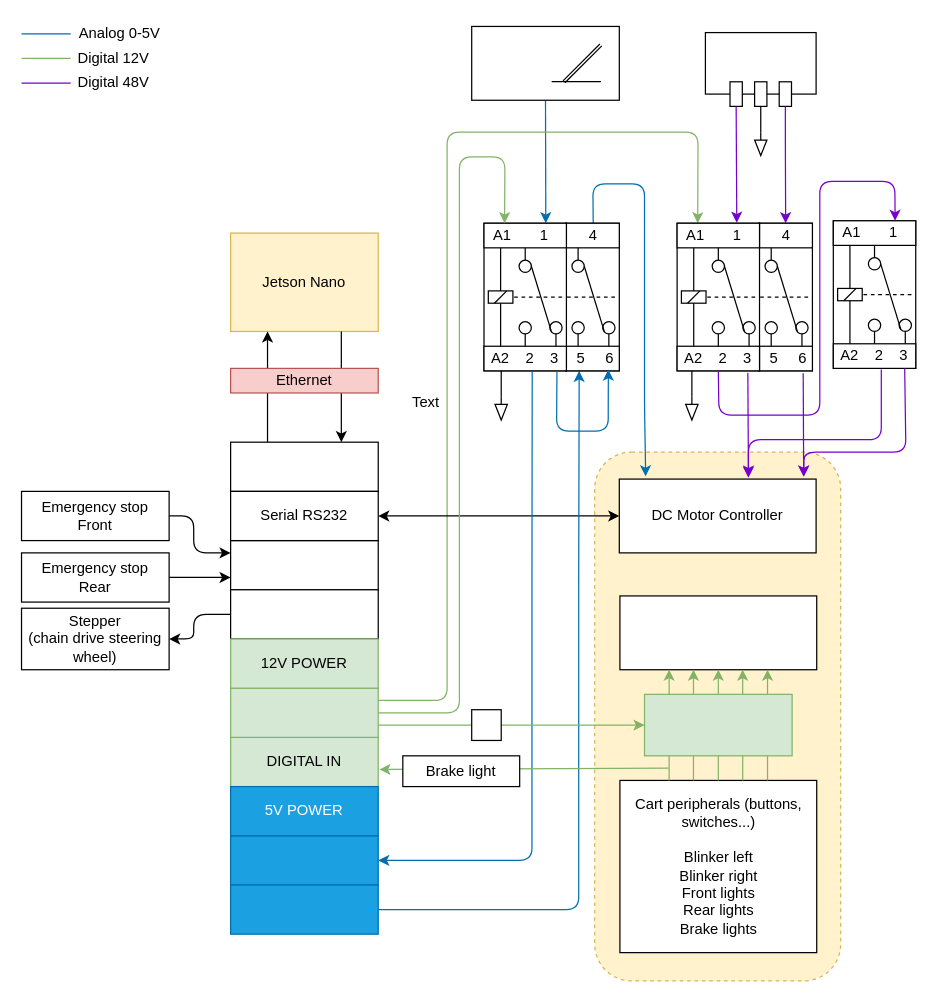
The diagram is 937 pixels wide and 1002 high, and some of its shapes have lost their labels. The centre of each missing label's shape, as x and y in pixels:
"ANALOG IN" goes at (303,860).
"ANALOG OUT" goes at (303,909).
"Cart wiring loom" goes at (718,632).
"DIGITAL OUT" goes at (303,712).
"FNR 3-state switch" goes at (760,62).
"Intercept signals with PLC, one wire for each" goes at (717,724).
"Motion" goes at (303,614).
"Pedal 0-5V 5,6kOhm" goes at (544,62).
"PLC" goes at (303,466).
"TwinSAFE" goes at (303,564).
"x5" goes at (485,724).
